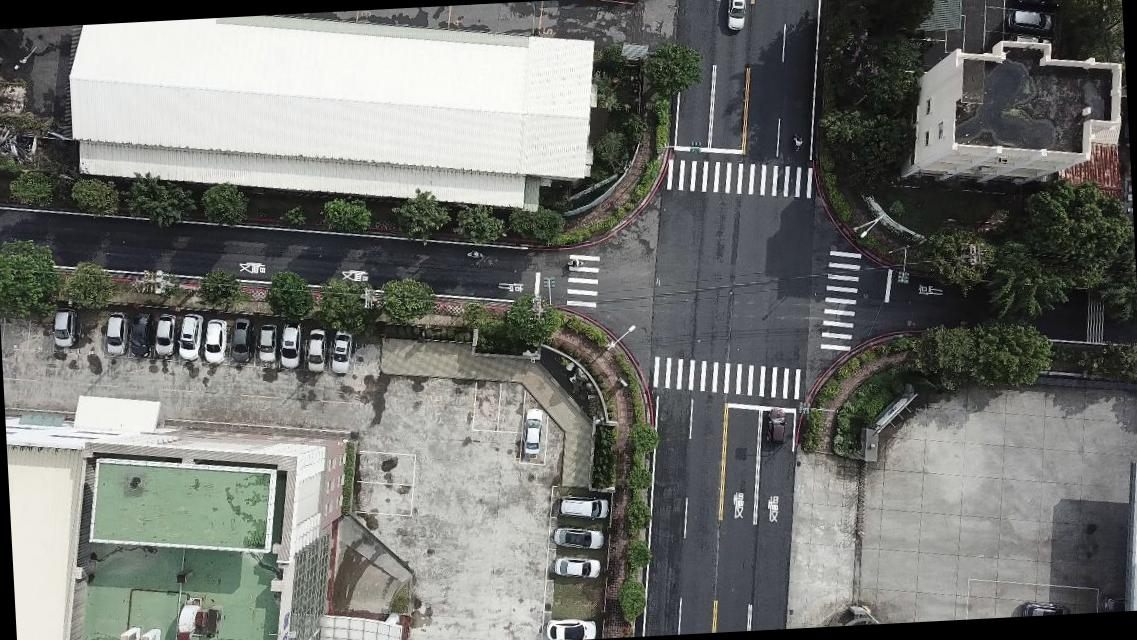vehicle: (554, 491, 608, 521), (551, 522, 604, 552), (552, 552, 603, 582), (177, 313, 206, 362), (545, 613, 599, 639), (126, 308, 154, 358), (305, 323, 330, 378), (518, 406, 546, 454), (100, 310, 129, 356), (202, 317, 228, 365), (328, 330, 354, 376), (1007, 6, 1052, 32), (229, 316, 254, 362), (277, 321, 302, 367), (151, 308, 175, 354), (52, 304, 76, 348), (255, 322, 278, 364), (763, 407, 787, 446), (725, 0, 748, 35), (1016, 0, 1064, 12)
